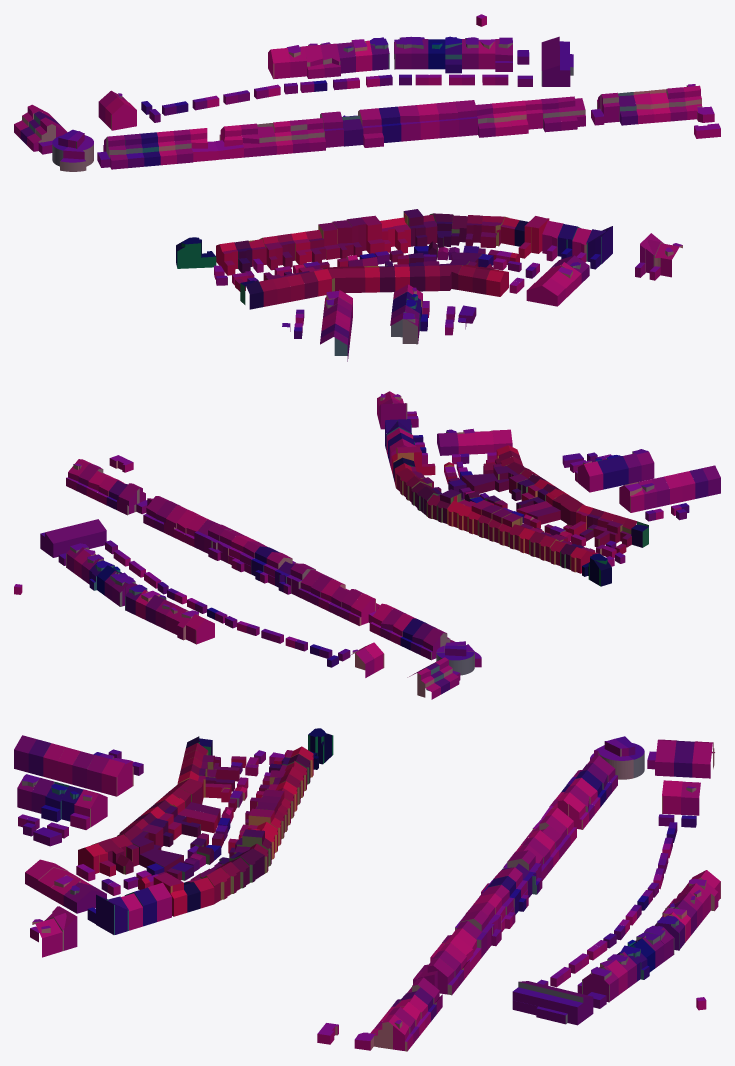
The model's file is buildings_13_10.glb.
3 views of the same model, one above another, from view 1: azimuth 30°, elevation 25°; view 2: azimuth 150°, elevation 25°; view 3: azimuth 270°, elevation 25° (orthographic). The views are drawn at different scales.
Parts seen in each view (by area): view 1: buildings_13_10; view 2: buildings_13_10; view 3: buildings_13_10.
Boxes of the visible parts, left/top/right/bottom form: buildings_13_10: left=14, top=14, right=720, bottom=361; buildings_13_10: left=14, top=391, right=720, bottom=699; buildings_13_10: left=14, top=728, right=720, bottom=1051.
Bounding box in the file's own units: 209 × 9.92 × 208.
